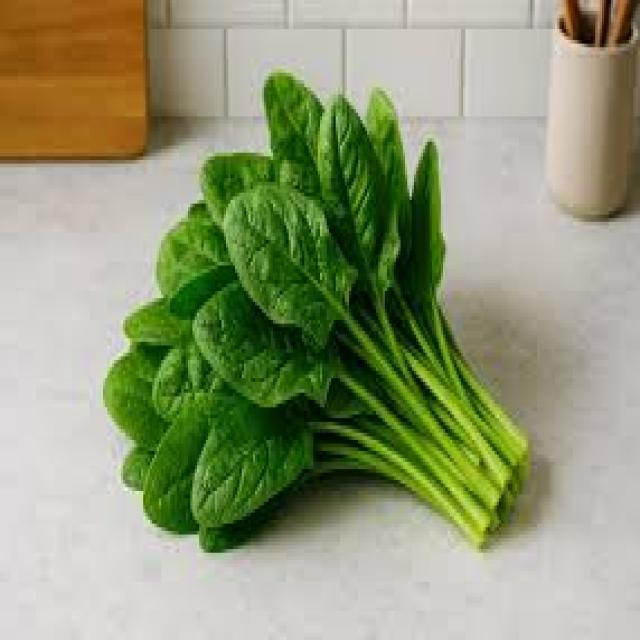spinach: (88, 58, 552, 572)
